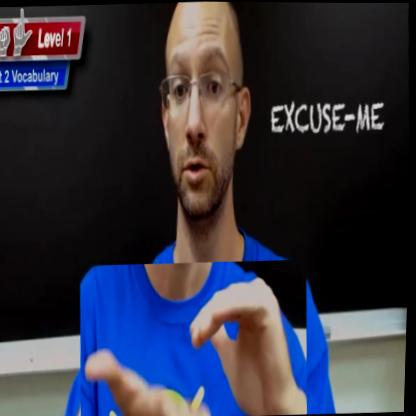ExcuseMe: (78, 258, 313, 416)
